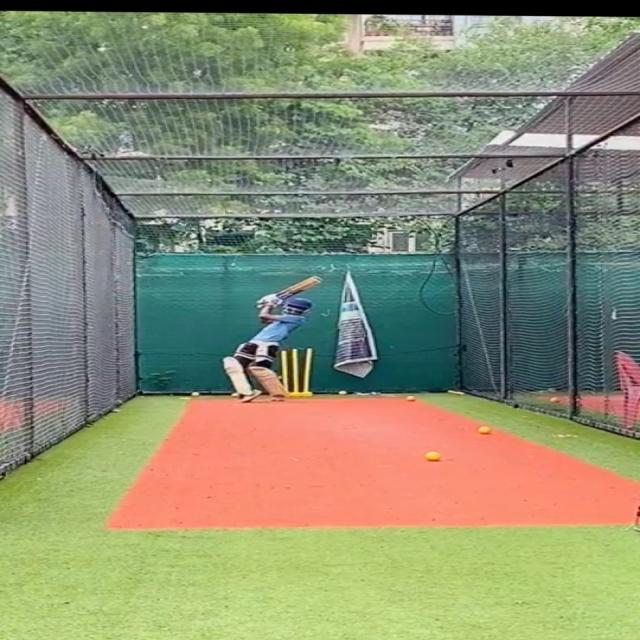ball: (425, 449, 447, 463), (478, 424, 492, 434), (336, 388, 349, 397), (406, 394, 418, 402)
stump: (280, 346, 316, 399)
